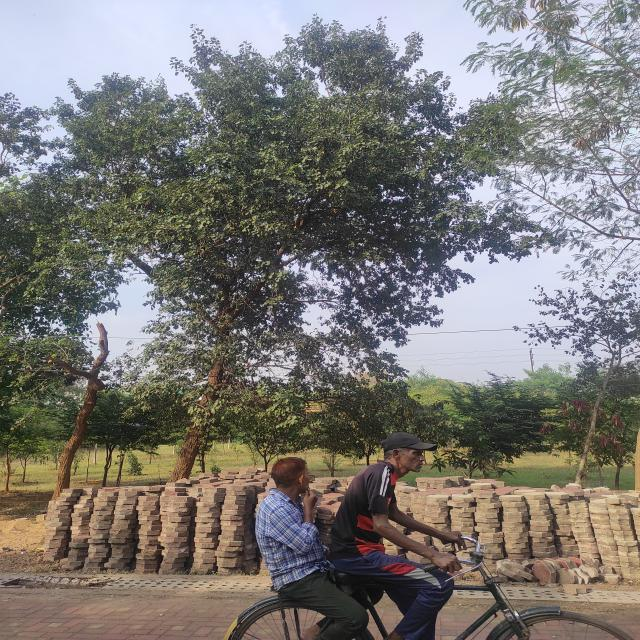Devakanchan tree: (1, 40, 482, 346)
